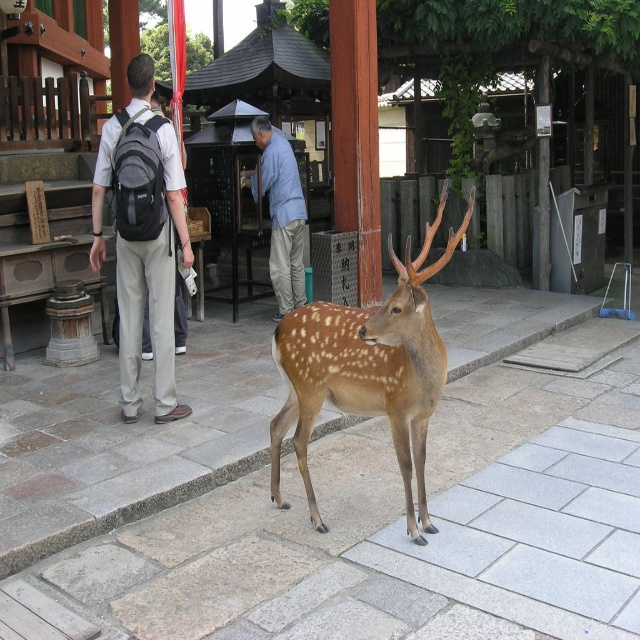Deer: (266, 178, 479, 547)
